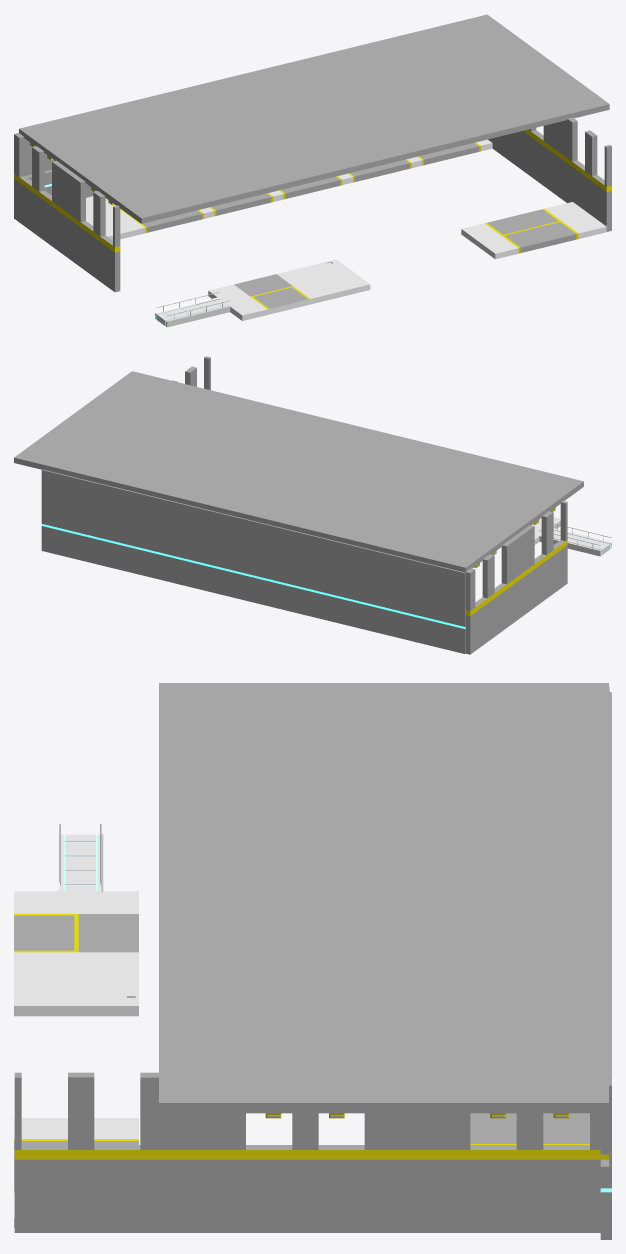
Rendered from 4thRoom.fbx.
3 views of the same model, one above another, from view 1: azimuth 30°, elevation 25°; view 2: azimuth 150°, elevation 25°; view 3: azimuth 270°, elevation 25° (orthographic). The views are drawn at different scales.
Visible parts, largest first — view 1: Cube.007, Cube.025, Cube.011, Cube.031, Cube.030, Cube.019, Cube.048, Cube.013, Cube.005, Cube.029, Cube.009; view 2: Cube.009, Cube.025, Cube.007, Cube.011, Cube.013, Cube.029, Cube.030; view 3: Cube.025, Cube.007, Cube.030, Cube.005, Cube.031, Cube.006, Cube.019, Cube.009, Cube.029, Cube.048.
Boxes of the visible parts, box(x1,y1,x2,y2) form: Cube.007: box(80, 59, 609, 223); Cube.025: box(19, 14, 548, 177); Cube.011: box(53, 162, 120, 292); Cube.031: box(208, 259, 370, 320); Cube.030: box(545, 117, 611, 231); Cube.019: box(86, 139, 492, 240); Cube.048: box(461, 202, 606, 259); Cube.013: box(14, 133, 57, 247); Cube.005: box(488, 125, 545, 186); Cube.029: box(155, 292, 231, 327); Cube.009: box(24, 139, 93, 197); Cube.009: box(41, 469, 465, 653); Cube.025: box(14, 414, 524, 572); Cube.007: box(73, 371, 583, 528); Cube.011: box(504, 501, 567, 626); Cube.013: box(465, 544, 508, 654); Cube.029: box(539, 523, 611, 556); Cube.030: box(172, 356, 210, 390); Cube.025: box(383, 683, 608, 1118); Cube.007: box(159, 683, 384, 1118); Cube.030: box(14, 1072, 239, 1232); Cube.005: box(239, 1113, 463, 1232); Cube.031: box(14, 891, 138, 1016); Cube.006: box(463, 1072, 609, 1232); Cube.019: box(470, 1113, 589, 1144); Cube.009: box(600, 692, 611, 1239); Cube.029: box(58, 824, 103, 891); Cube.048: box(14, 1118, 138, 1227).
Size of the model in its own units: 8882 by 1595 by 5292.
